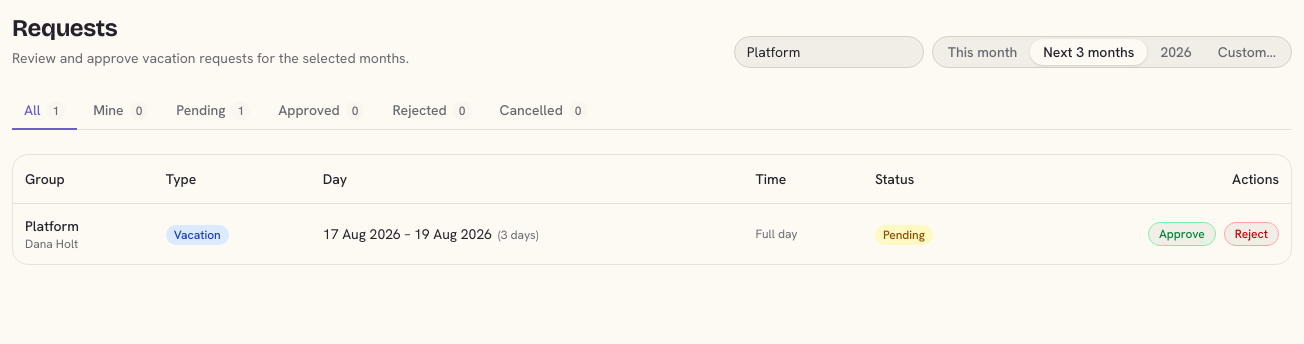
Test: RequestsPage action errors › surfaces a failed approval instead of leaving the row silent
Step 1. Click the button "Approve" → point(1182, 234), box [1148,222,1216,246]
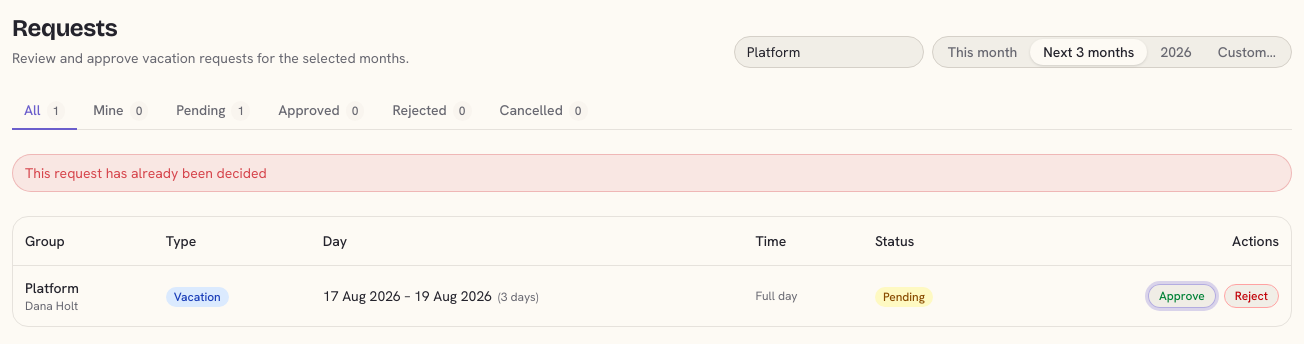
Expected: the message reads "This request has already been decided", [25,164,267,182]
